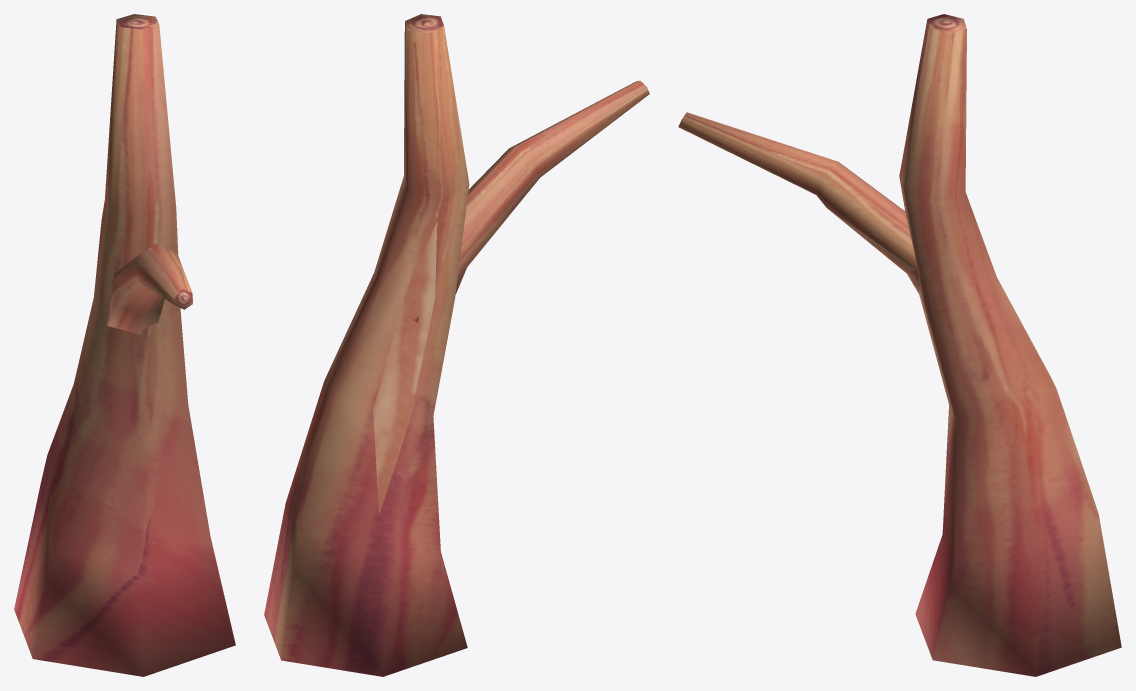
Rendered from m_treeBark_01.fbx.
3 renders of one model, left to right at view 1: azimuth 30°, elevation 25°; view 2: azimuth 150°, elevation 25°; view 3: azimuth 270°, elevation 25°, orthographic. The views are drawn at different scales.
Parts seen in each view (by area): view 1: m_treeBark_01; view 2: m_treeBark_01; view 3: m_treeBark_01.
Part boxes in pixels (x1,y1,x2,y2): m_treeBark_01: [14, 14, 235, 676]; m_treeBark_01: [264, 14, 649, 676]; m_treeBark_01: [678, 14, 1121, 676].
Bounding box in the file's own units: 129 × 342 × 230.
